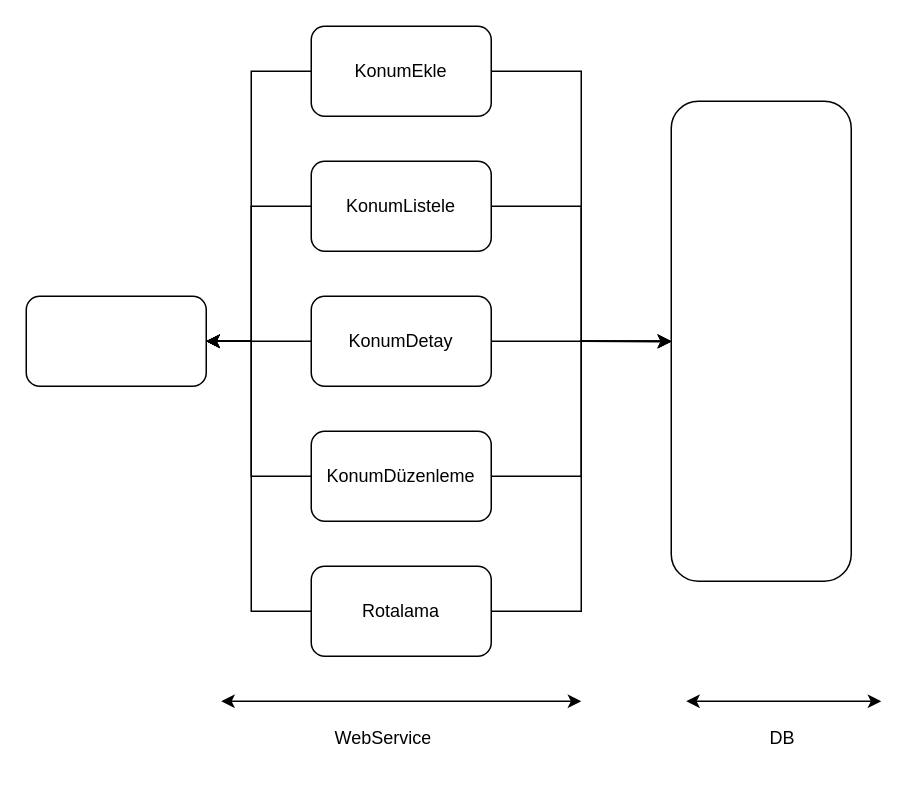
The diagram is 921 pixels wide and 788 high, and some of its shapes have lost their labels. The centre of each missing label's shape, as x and y in pixels:
"FrontEnd" belongs at [115,340].
"Rota Verileri (MongoDB)" belongs at [760,340].
